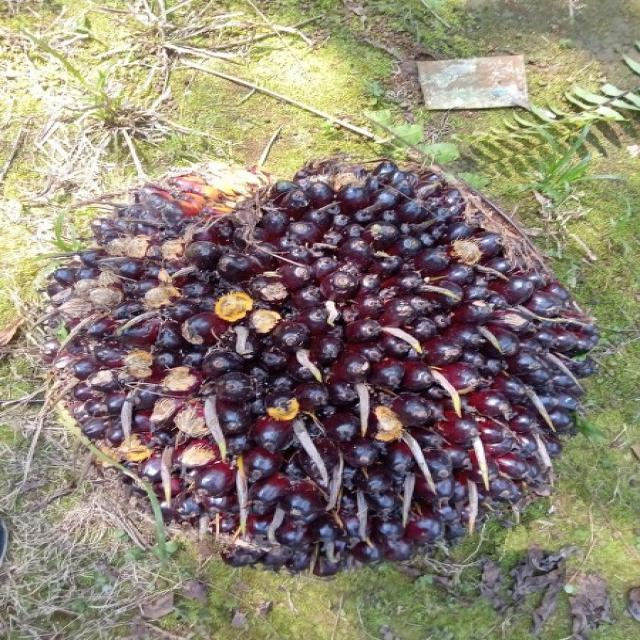fraksi 00: (38, 179, 585, 574)
